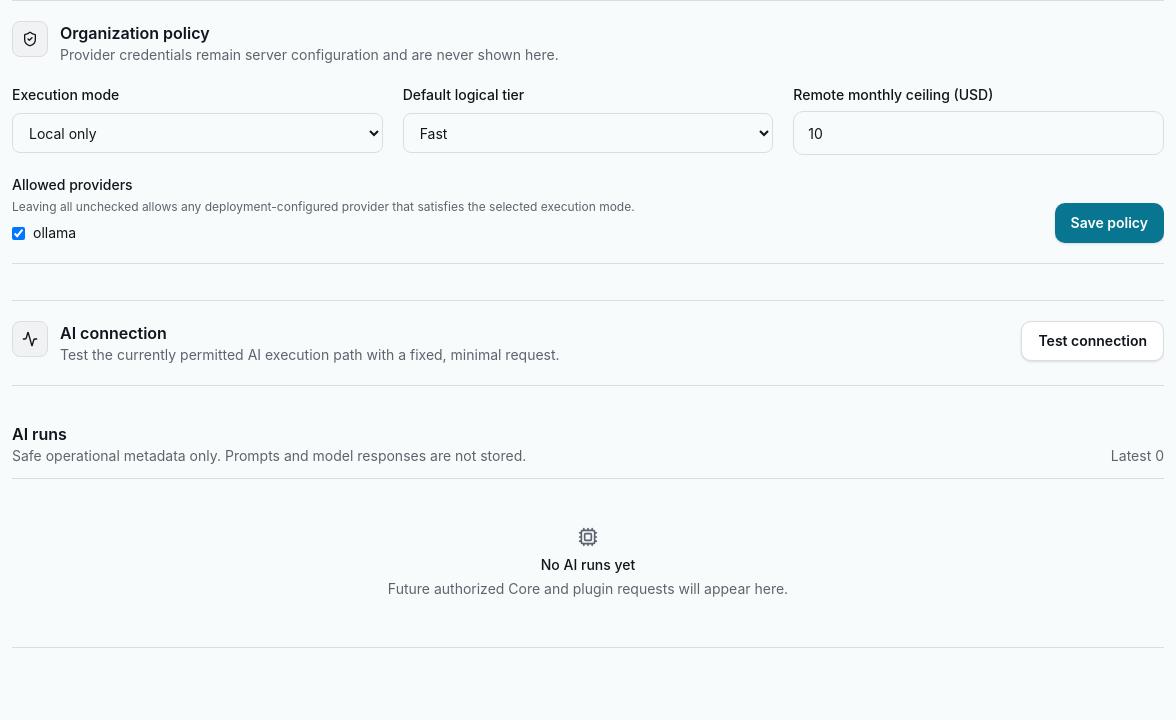
AIManagement › shows only safe connection metadata after a successful test
Click the button "Test connection" at [1093, 341], box top-left (1022, 321), bottom-right (1164, 361)
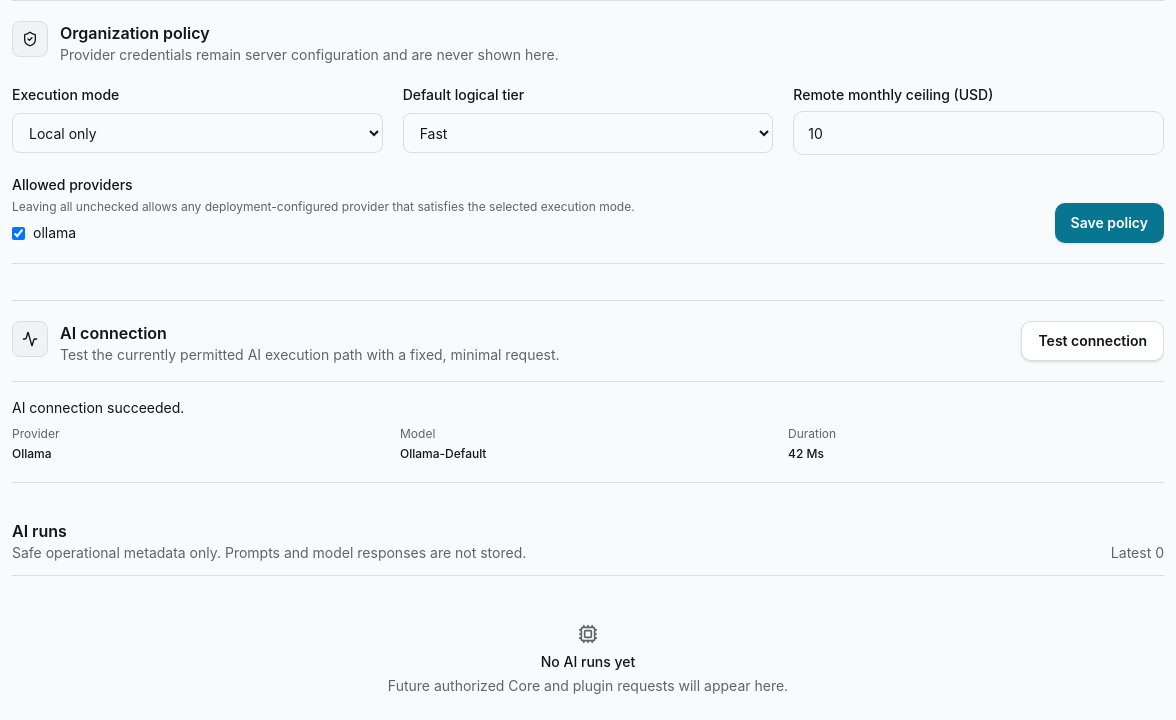
Expected: the text "AI connection succeeded." is shown, top-left (12, 399), bottom-right (184, 416)
Expected: the text "ollama-default" is shown, top-left (400, 446), bottom-right (486, 461)
Expected: the text "ollama" is shown, top-left (12, 446), bottom-right (52, 461)
